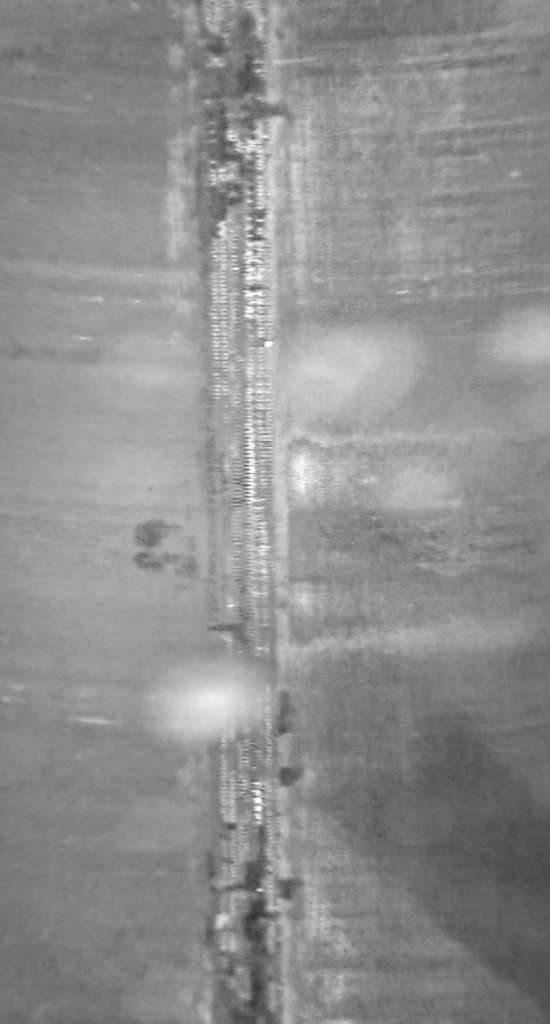splice: (179, 1, 298, 1024)
